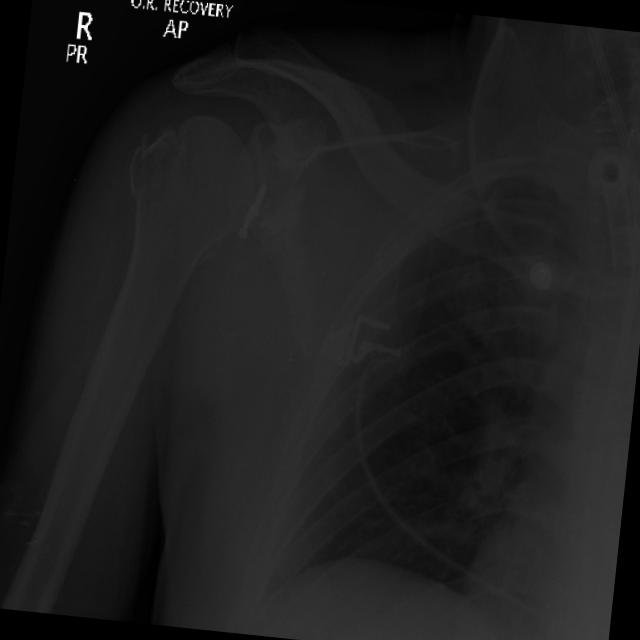shoulder fracture: (98, 95, 215, 246)
